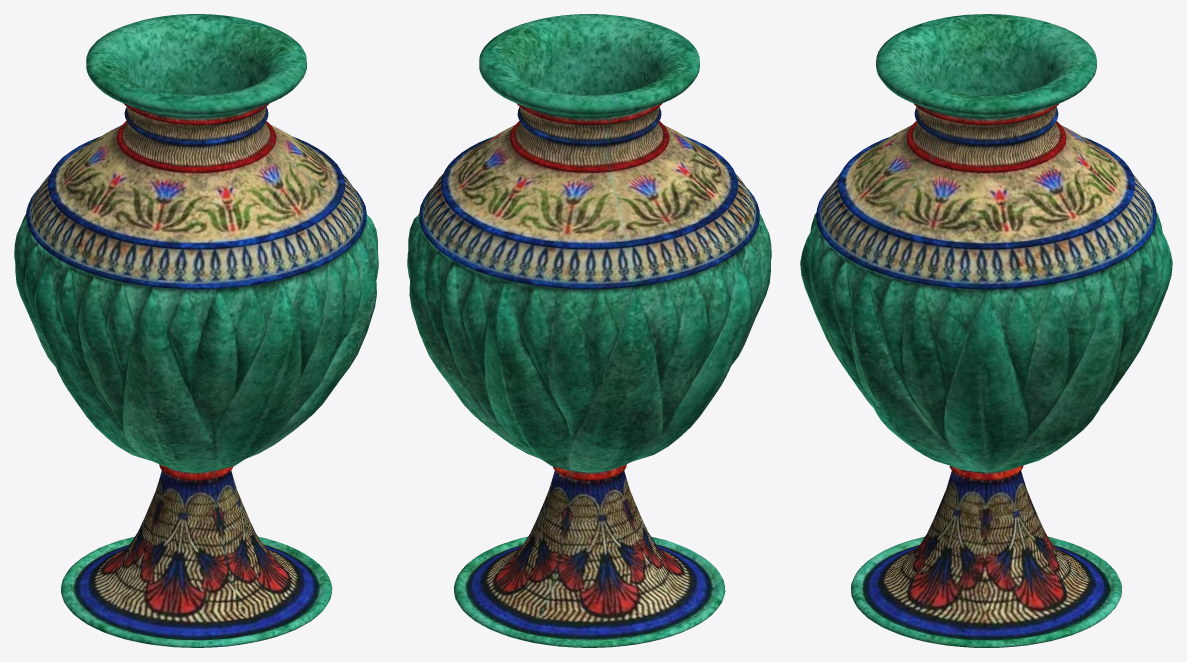
The model's file is 静物_瓶罐_egyptian_lotus_vase_opt.glb.
The picture shows the model from 3 angles, left to right: view 1: azimuth 30°, elevation 25°; view 2: azimuth 150°, elevation 25°; view 3: azimuth 270°, elevation 25°; orthographic projection.
Visible parts, largest first — view 1: Egyptian_Vase_B03_RizomUV_Default_OBJ_0; view 2: Egyptian_Vase_B03_RizomUV_Default_OBJ_0; view 3: Egyptian_Vase_B03_RizomUV_Default_OBJ_0.
Part boxes in pixels (x1=…): Egyptian_Vase_B03_RizomUV_Default_OBJ_0: x1=14, y1=14, x2=378, y2=647; Egyptian_Vase_B03_RizomUV_Default_OBJ_0: x1=407, y1=14, x2=771, y2=647; Egyptian_Vase_B03_RizomUV_Default_OBJ_0: x1=800, y1=14, x2=1172, y2=647.
Size of the model in its own units: 0.316 by 0.5 by 0.316.
Materials: 1 (1 with a texture image).
